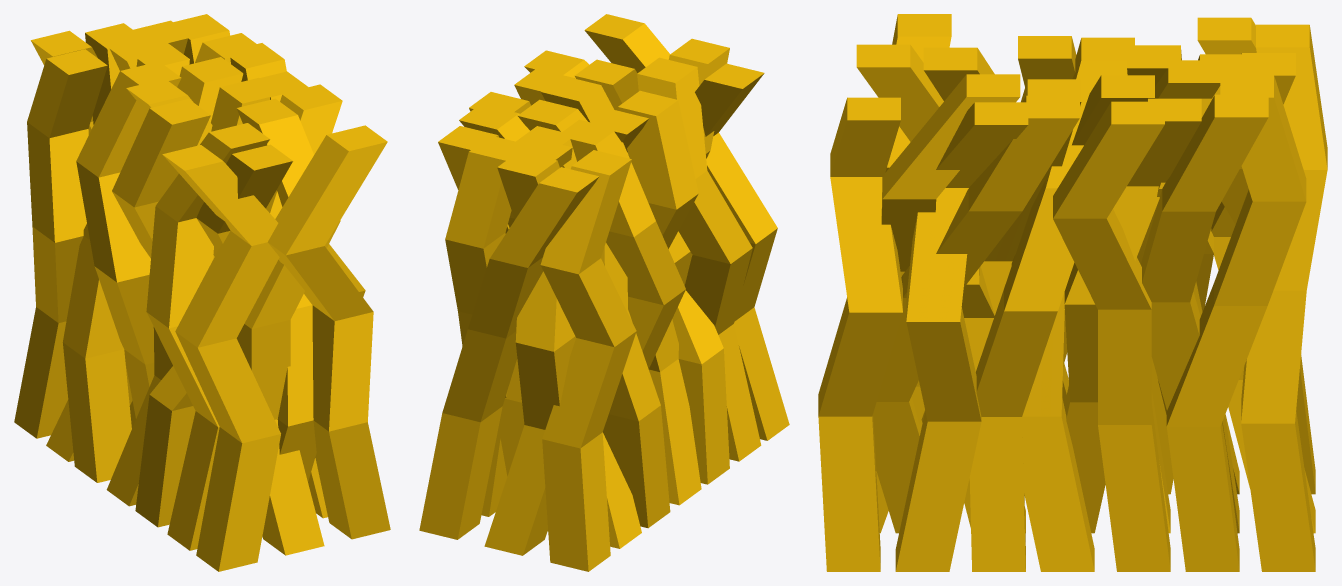
The model's file is papas_3.obj.
The picture shows the model from 3 angles, left to right: view 1: azimuth 30°, elevation 25°; view 2: azimuth 150°, elevation 25°; view 3: azimuth 270°, elevation 25°; orthographic projection. The views are drawn at different scales.
Parts seen in each view (by area): view 1: Cubo.038_Cubo.065; view 2: Cubo.038_Cubo.065; view 3: Cubo.038_Cubo.065.
Part boxes in pixels (bbox=[...]): Cubo.038_Cubo.065: bbox=[14, 14, 390, 571]; Cubo.038_Cubo.065: bbox=[419, 14, 789, 571]; Cubo.038_Cubo.065: bbox=[818, 14, 1327, 571].
Bounding box in the file's own units: 0.0732 × 0.1392 × 0.1406.
